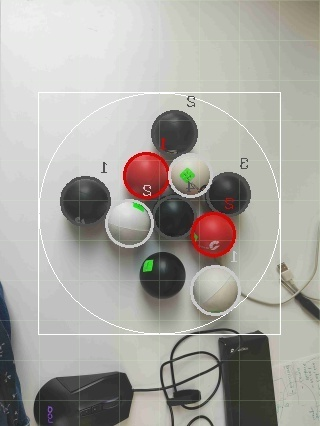Pelota blanca: (159, 334, 222, 411), (191, 262, 241, 318), (103, 198, 156, 248), (167, 150, 212, 198), (122, 391, 175, 425), (186, 414, 217, 425)
Pelota negra: (34, 371, 135, 425), (61, 174, 113, 227), (138, 249, 188, 299), (151, 108, 199, 158), (207, 169, 252, 216), (154, 196, 196, 238)
Pelota roja: (122, 150, 172, 200), (189, 209, 238, 259)
